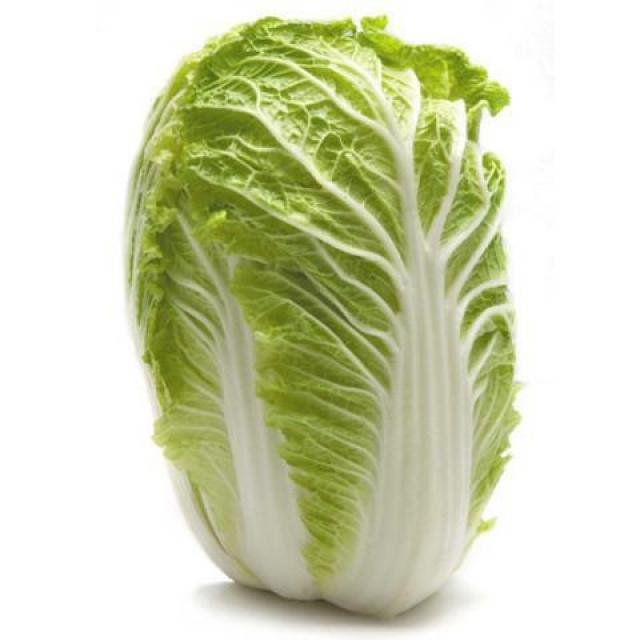cabbage: (110, 28, 578, 619)
